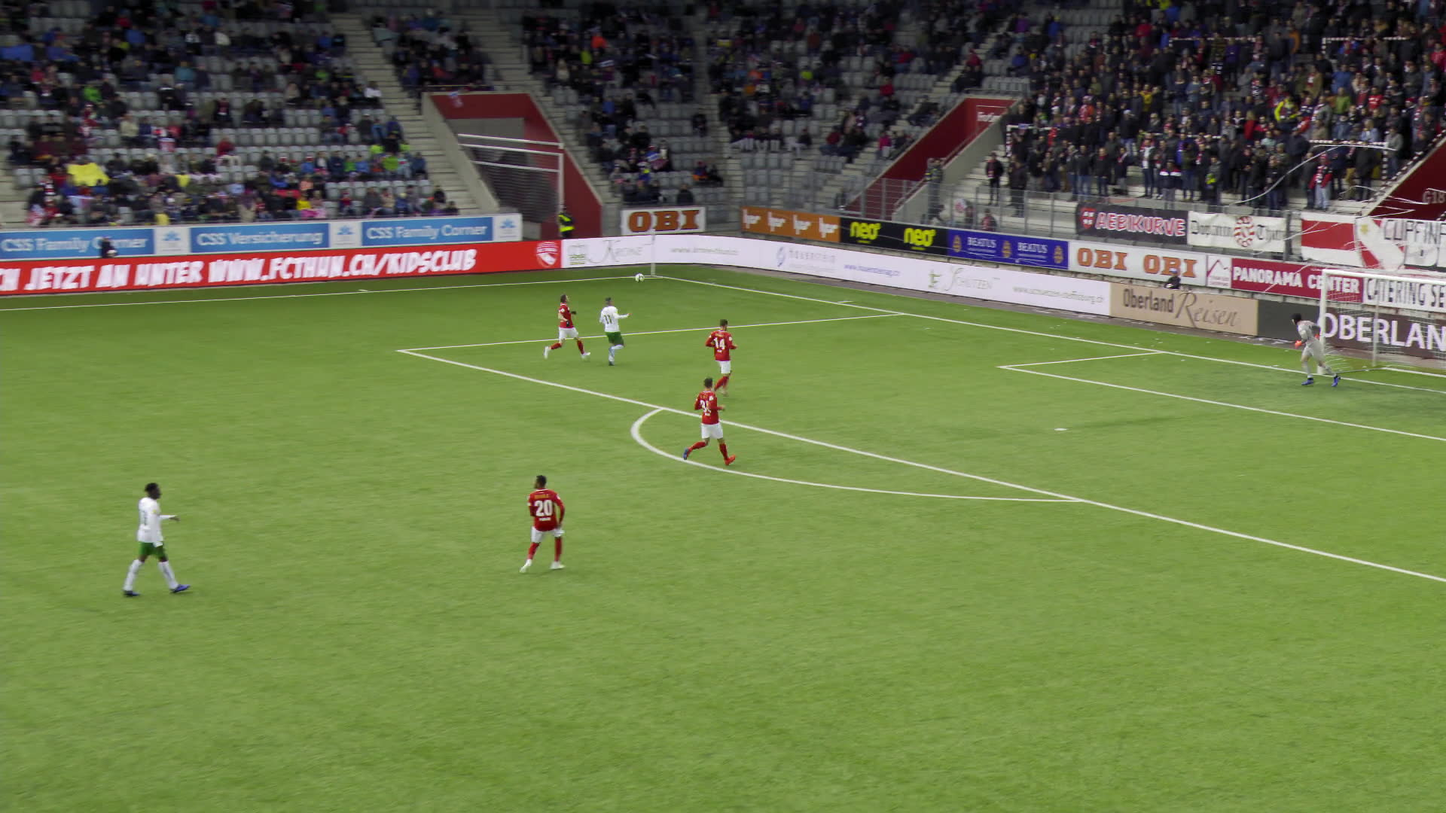ball: (634, 272, 646, 285)
player: (118, 483, 191, 599), (517, 474, 568, 575), (685, 376, 736, 464), (1290, 312, 1341, 388), (701, 321, 741, 397), (548, 294, 587, 358), (596, 297, 631, 364)
